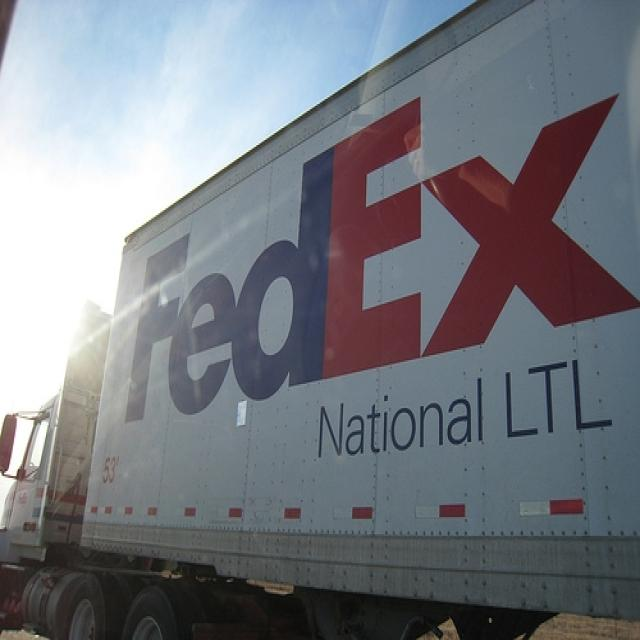fedex: (120, 78, 640, 429)
